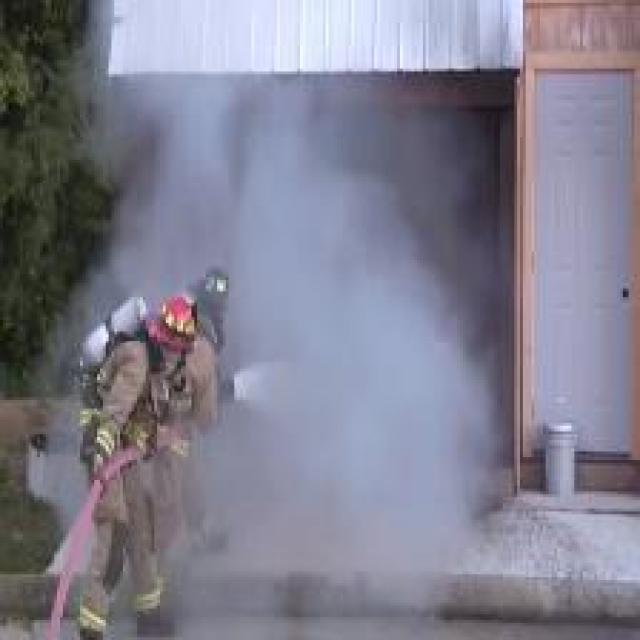other: (141, 285, 213, 360)
